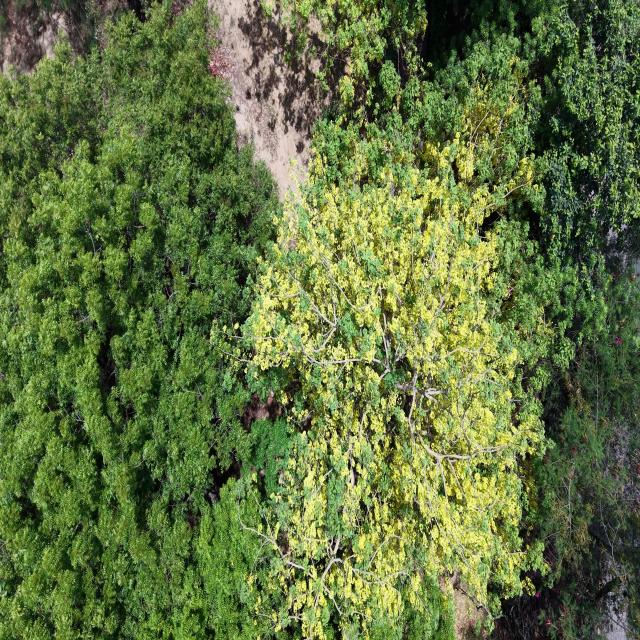DRY_AREA: (209, 0, 331, 200), (210, 0, 331, 200), (209, 0, 330, 200), (210, 0, 328, 200), (0, 0, 143, 75), (0, 0, 91, 73), (0, 0, 65, 72), (439, 571, 486, 639), (607, 608, 631, 639)
VEGETATION_TREE: (0, 0, 639, 639), (246, 2, 639, 634), (244, 2, 548, 636), (0, 2, 277, 639), (535, 0, 639, 637), (537, 273, 639, 637), (534, 0, 639, 275)
